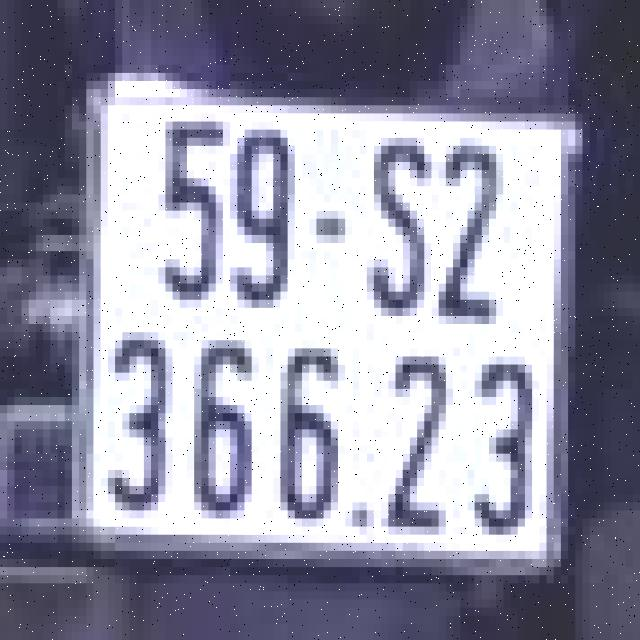2: (435, 130, 507, 332), (385, 344, 449, 547)
3: (468, 336, 546, 555), (100, 320, 172, 523)
5: (154, 109, 227, 312)
6: (270, 328, 348, 531), (190, 320, 262, 523)
9: (226, 121, 298, 316)
S: (363, 126, 428, 336)
